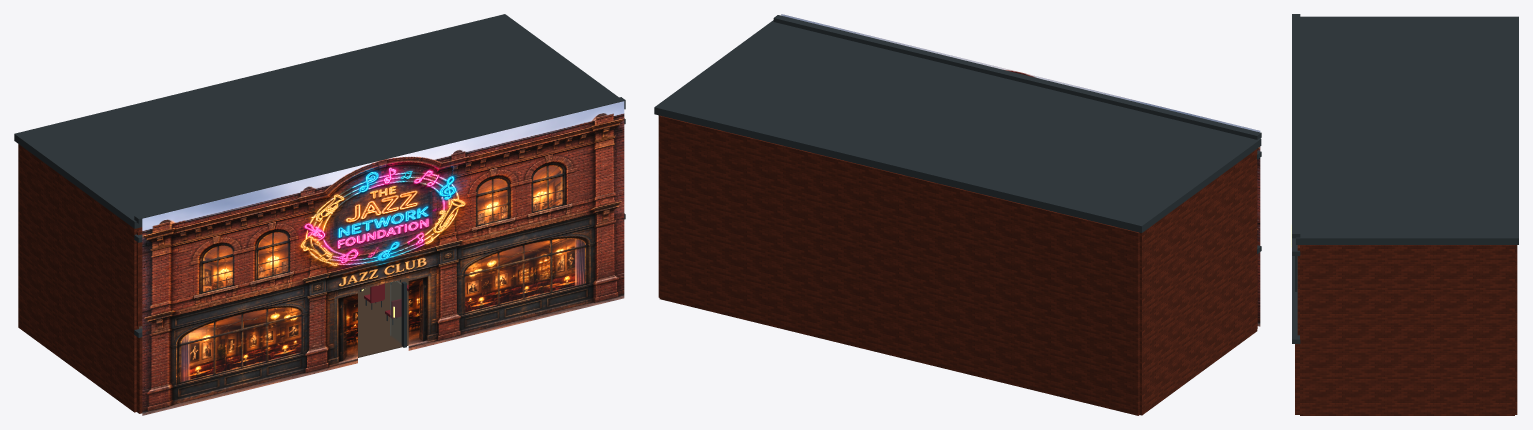
The model's file is milliken-jazz-club.glb.
3 views of the same model, side by side, from view 1: azimuth 30°, elevation 25°; view 2: azimuth 150°, elevation 25°; view 3: azimuth 270°, elevation 25° (orthographic). The views are drawn at different scales.
Visible parts, largest first — view 1: ENV_Jazz_Milliken_Higgsfield reference matched Jazz facade, ENV_Jazz_Milliken_Black metal window framing, ENV_Jazz_Milliken_Weathered burgundy brick, ENV_Jazz_Milliken_Dark oak flooring, ENV_Jazz_Milliken_Window glass - lightly tinted; view 2: ENV_Jazz_Milliken_Weathered burgundy brick, ENV_Jazz_Milliken_Black metal window framing, ENV_Jazz_Milliken_Higgsfield reference matched Jazz facade; view 3: ENV_Jazz_Milliken_Black metal window framing, ENV_Jazz_Milliken_Weathered burgundy brick.
Part boxes in pixels (bbox=[...]): ENV_Jazz_Milliken_Higgsfield reference matched Jazz facade: bbox=[142, 101, 624, 415]; ENV_Jazz_Milliken_Black metal window framing: bbox=[14, 14, 625, 347]; ENV_Jazz_Milliken_Weathered burgundy brick: bbox=[18, 144, 142, 413]; ENV_Jazz_Milliken_Dark oak flooring: bbox=[139, 278, 408, 357]; ENV_Jazz_Milliken_Window glass - lightly tinted: bbox=[390, 281, 401, 343]; ENV_Jazz_Milliken_Weathered burgundy brick: bbox=[658, 115, 1257, 415]; ENV_Jazz_Milliken_Black metal window framing: bbox=[654, 15, 1261, 253]; ENV_Jazz_Milliken_Higgsfield reference matched Jazz facade: bbox=[781, 14, 1260, 326]; ENV_Jazz_Milliken_Black metal window framing: bbox=[1292, 14, 1518, 343]; ENV_Jazz_Milliken_Weathered burgundy brick: bbox=[1295, 245, 1517, 415].
Size of the model in its own units: 25.65 by 9.85 by 11.19.
Materials: 9 (2 with a texture image).
